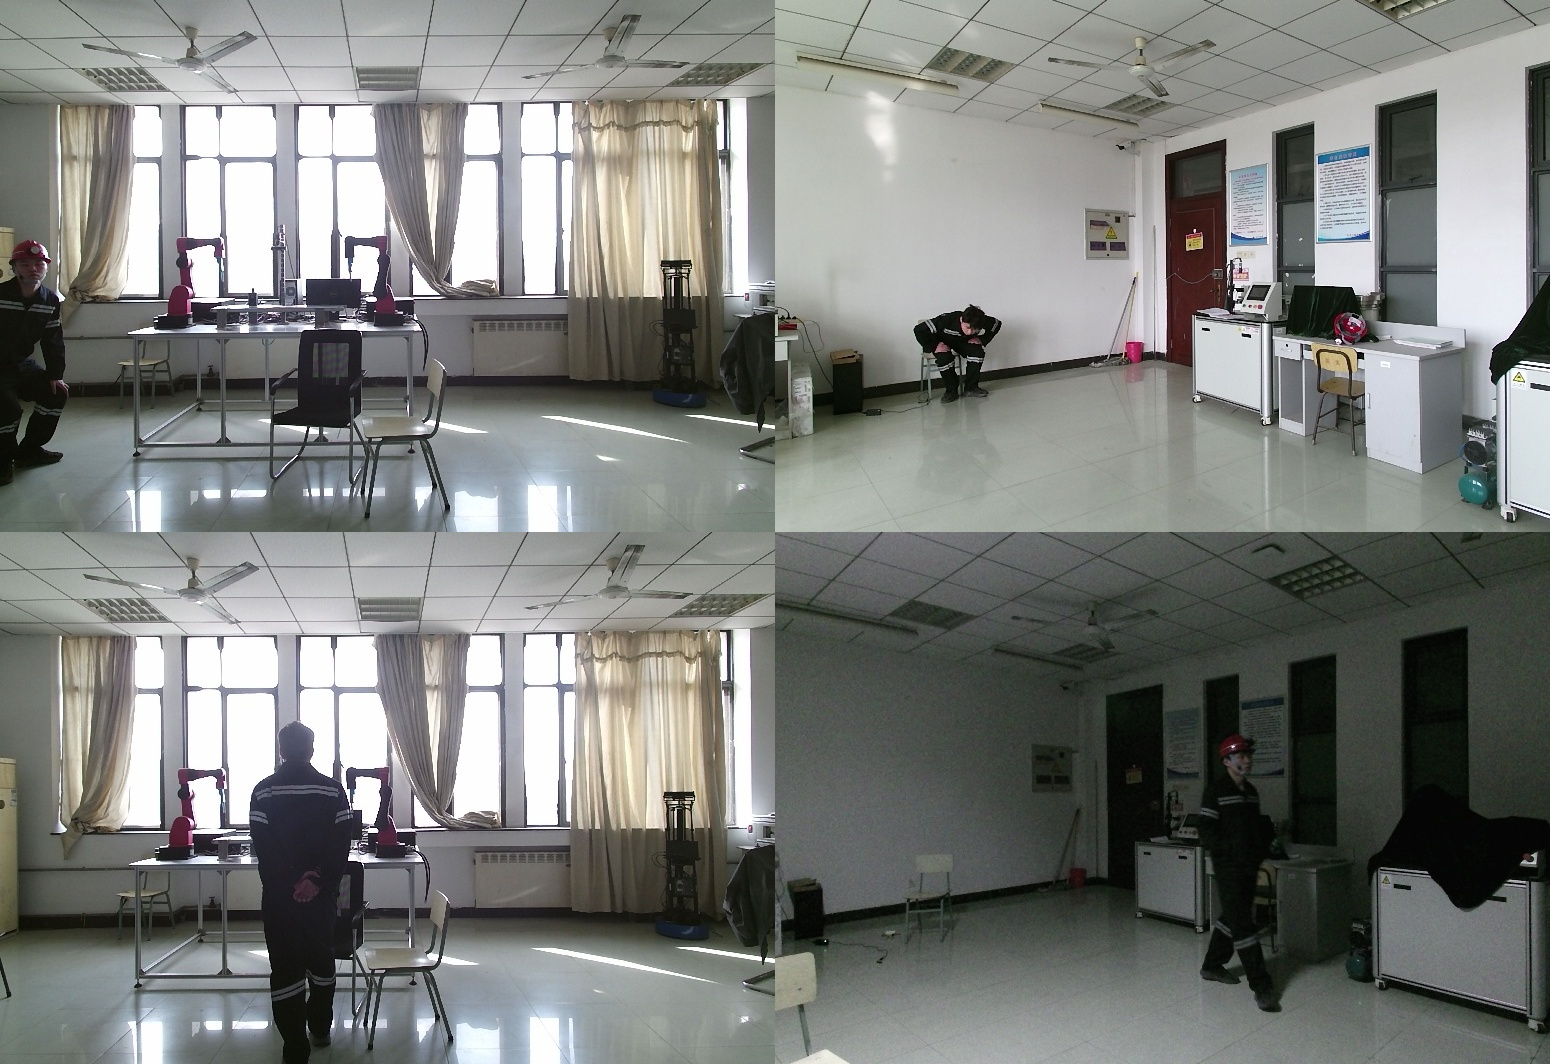person: (246, 724, 355, 1064), (1188, 736, 1278, 1004), (1, 241, 81, 483), (913, 309, 1000, 407)
